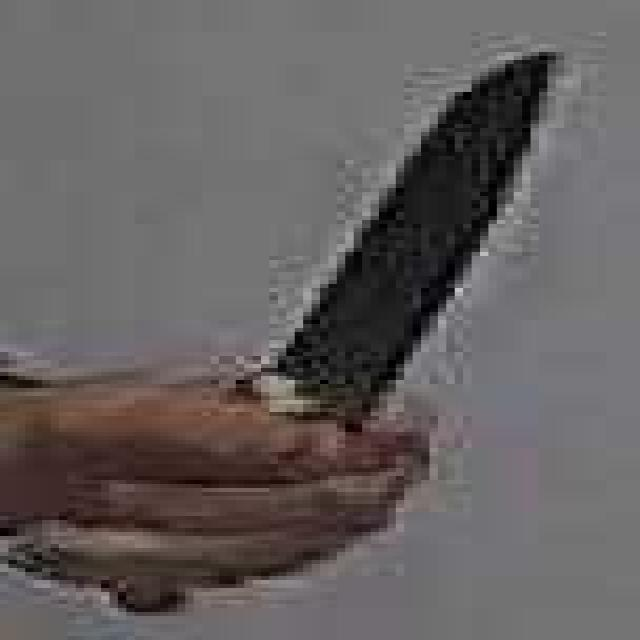knife: (237, 19, 640, 518)
